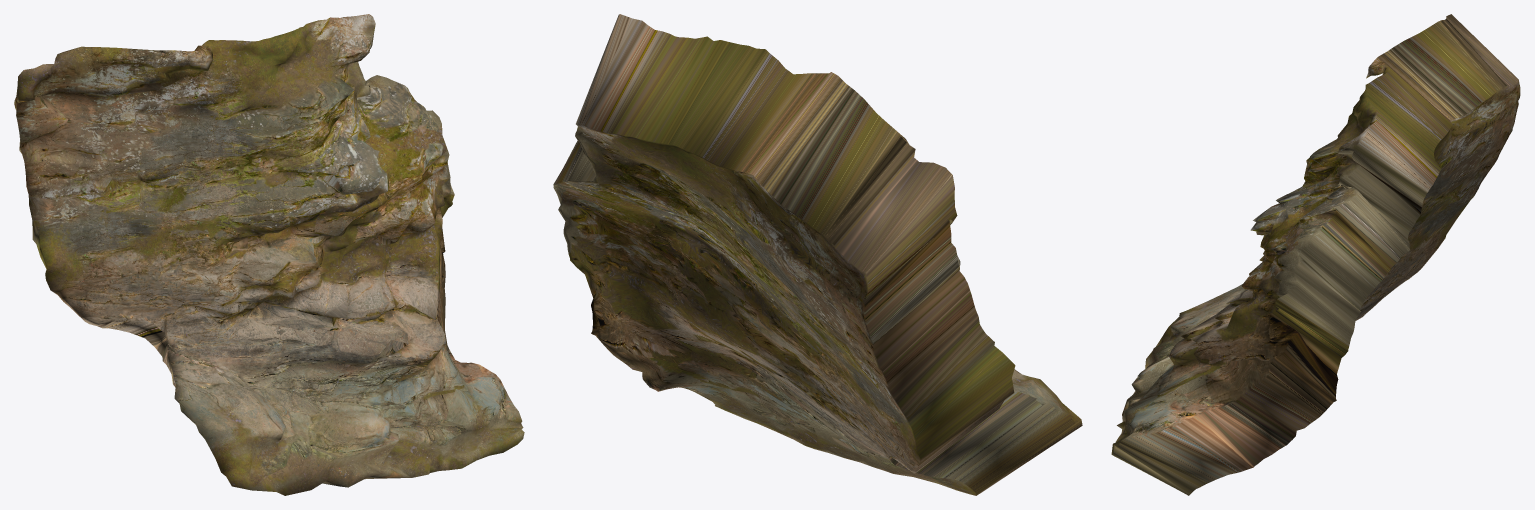
File: Scan_RockFace02.fbx
The picture shows the model from 3 angles, left to right: view 1: azimuth 30°, elevation 25°; view 2: azimuth 150°, elevation 25°; view 3: azimuth 270°, elevation 25°; orthographic projection. The views are drawn at different scales.
Parts seen in each view (by area): view 1: Scan_RockFace02_LOD0; view 2: Scan_RockFace02_LOD0; view 3: Scan_RockFace02_LOD0.
Boxes of the visible parts, box(x1,y1,x2,y2) form: Scan_RockFace02_LOD0: box(14, 14, 524, 495); Scan_RockFace02_LOD0: box(553, 14, 1082, 495); Scan_RockFace02_LOD0: box(1111, 14, 1520, 495).
Size of what is drawn, in the model's own units: 2.69 by 2.73 by 2.82.
